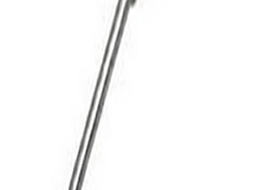Screwdriver: (53, 2, 141, 190)
